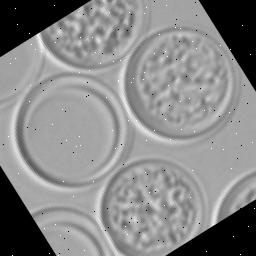picoshell: (10, 75, 134, 192), (119, 29, 240, 146), (94, 160, 210, 256), (37, 0, 150, 76), (33, 209, 113, 256), (0, 37, 42, 108), (210, 172, 256, 227)
